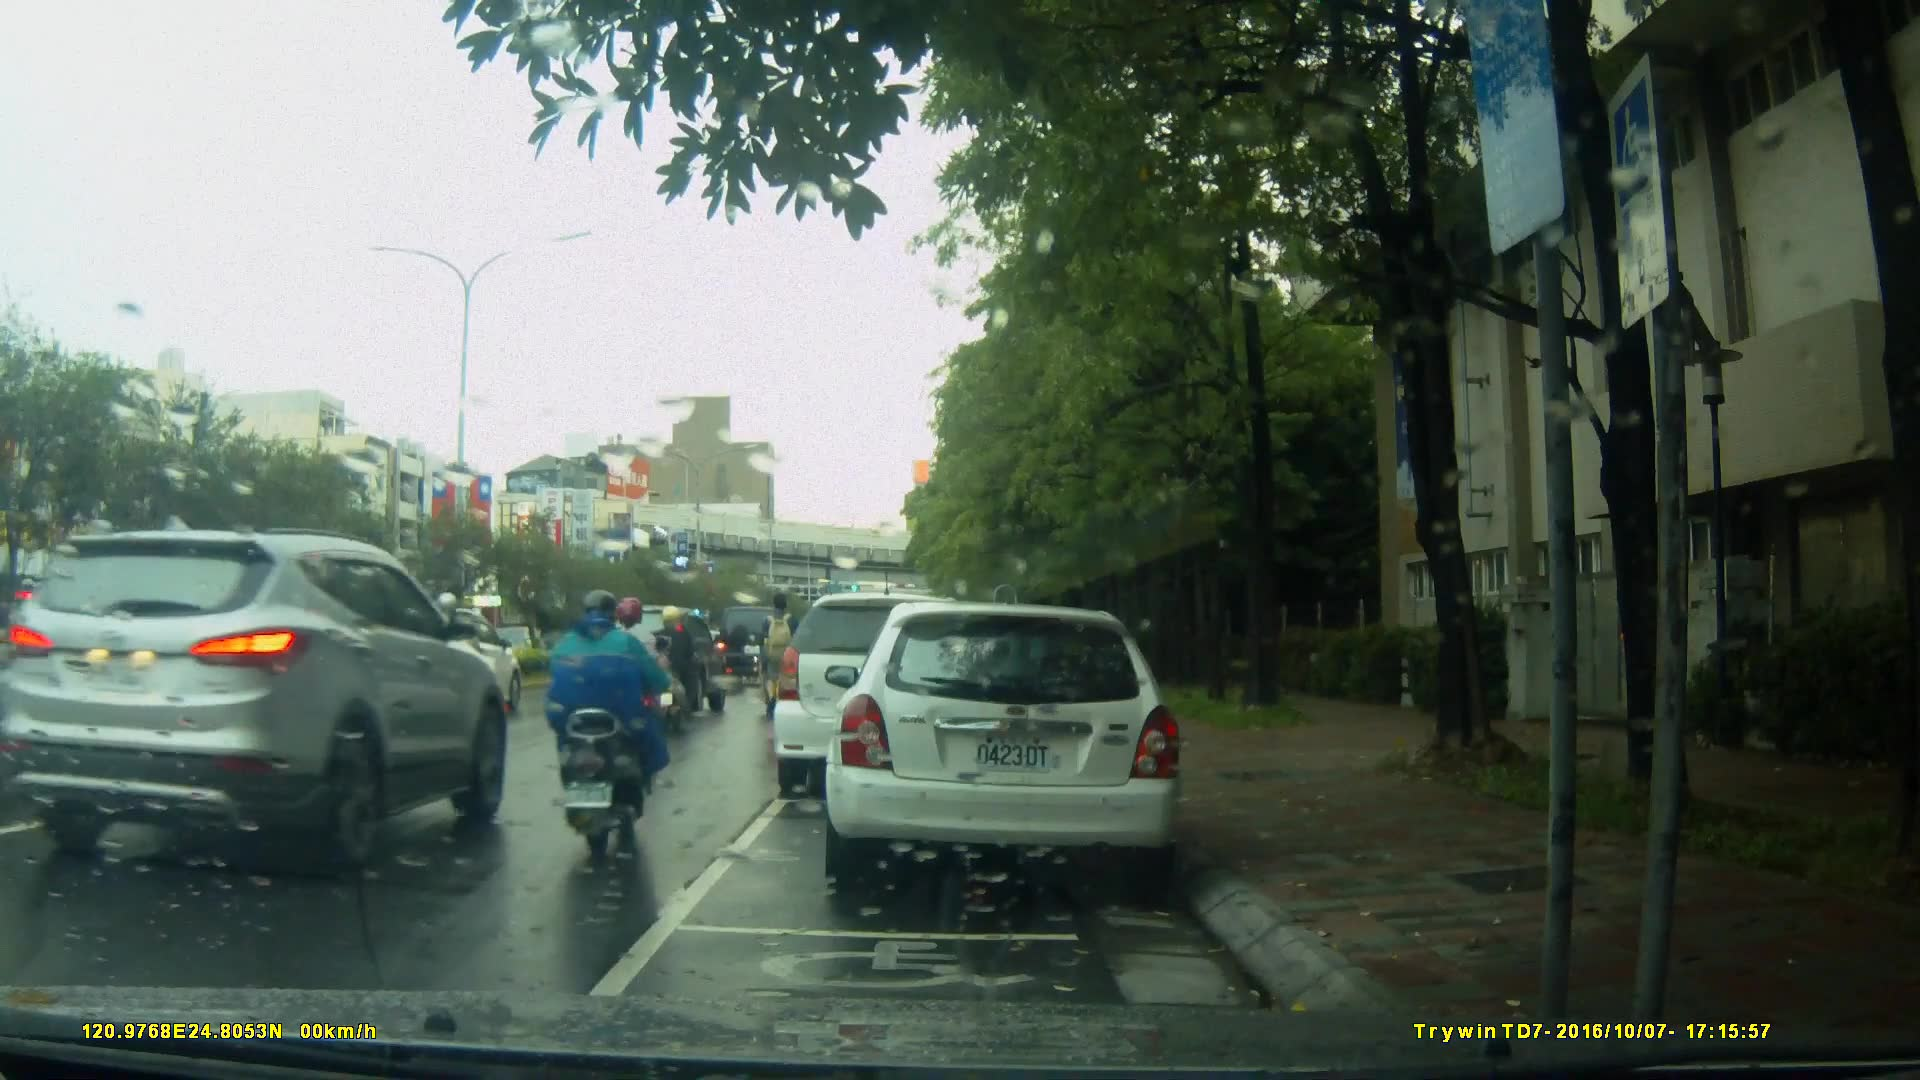rider: (549, 587, 665, 856), (645, 610, 712, 738), (757, 591, 804, 735)
vehicle: (8, 524, 513, 879), (822, 604, 1188, 883), (774, 595, 995, 802), (591, 595, 736, 711)
